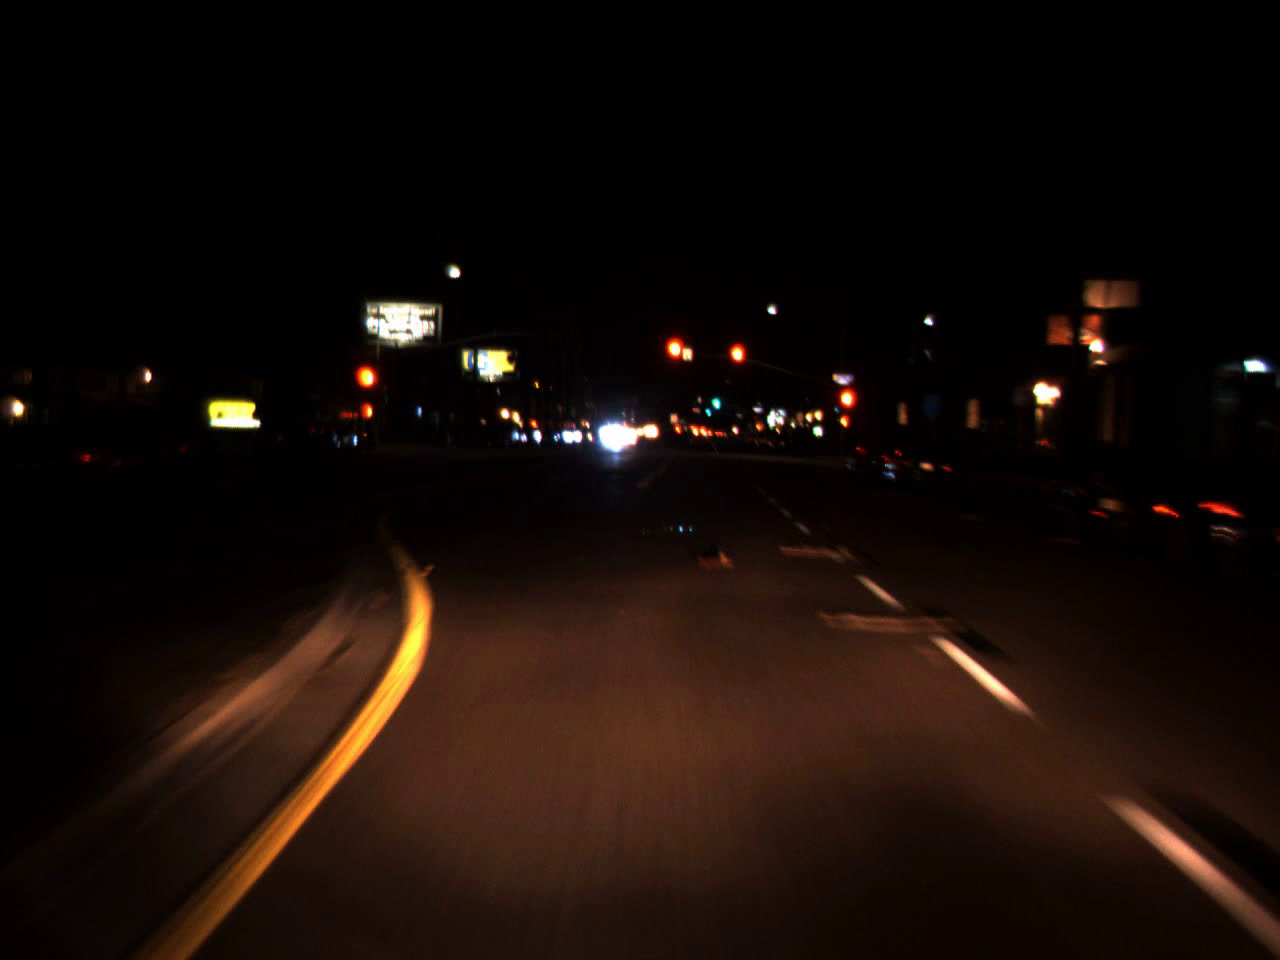go: (711, 385, 721, 412), (703, 404, 711, 416)
stop: (353, 362, 380, 416), (662, 333, 687, 387), (837, 385, 858, 433), (727, 342, 746, 385)
